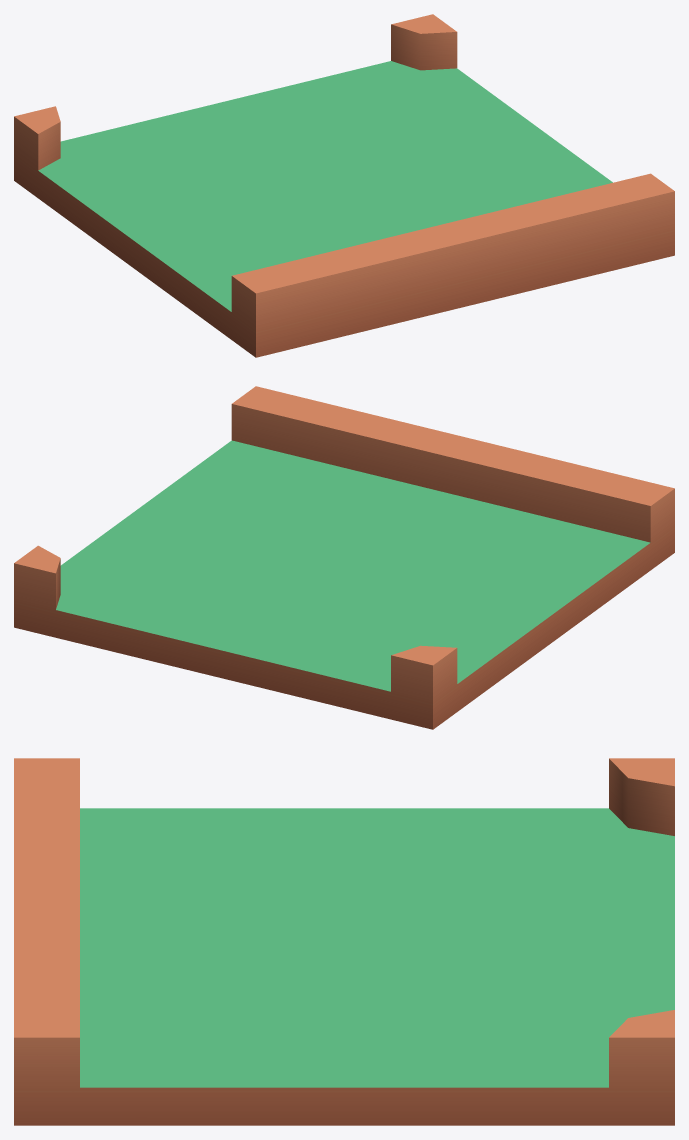
Rendered from split-t.glb.
3 renders of one model, top to bottom at view 1: azimuth 30°, elevation 25°; view 2: azimuth 150°, elevation 25°; view 3: azimuth 270°, elevation 25°, orthographic. The views are drawn at different scales.
Parts seen in each view (by area): view 1: split-t; view 2: split-t; view 3: split-t.
Part boxes in pixels (x1=…): split-t: x1=14, y1=14, x2=674, y2=357; split-t: x1=14, y1=386, x2=674, y2=729; split-t: x1=14, y1=758, x2=674, y2=1125.
Size of the model in its own units: 0.9999 by 0.1467 by 0.9999.
1 material, 1 textured.
